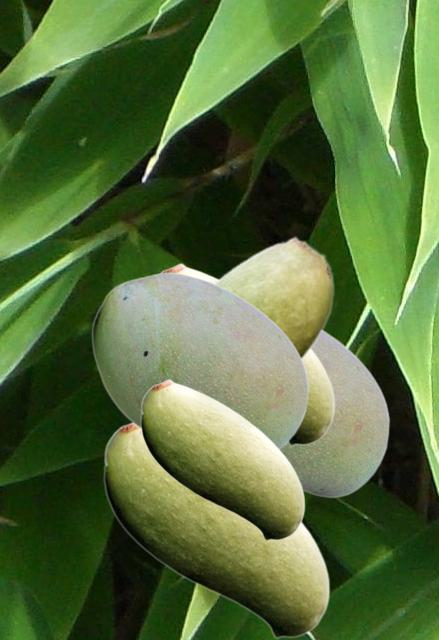green_mango: (103, 421, 329, 638), (91, 271, 308, 448), (161, 262, 334, 445), (140, 378, 304, 540), (281, 330, 389, 497), (212, 236, 333, 359)
